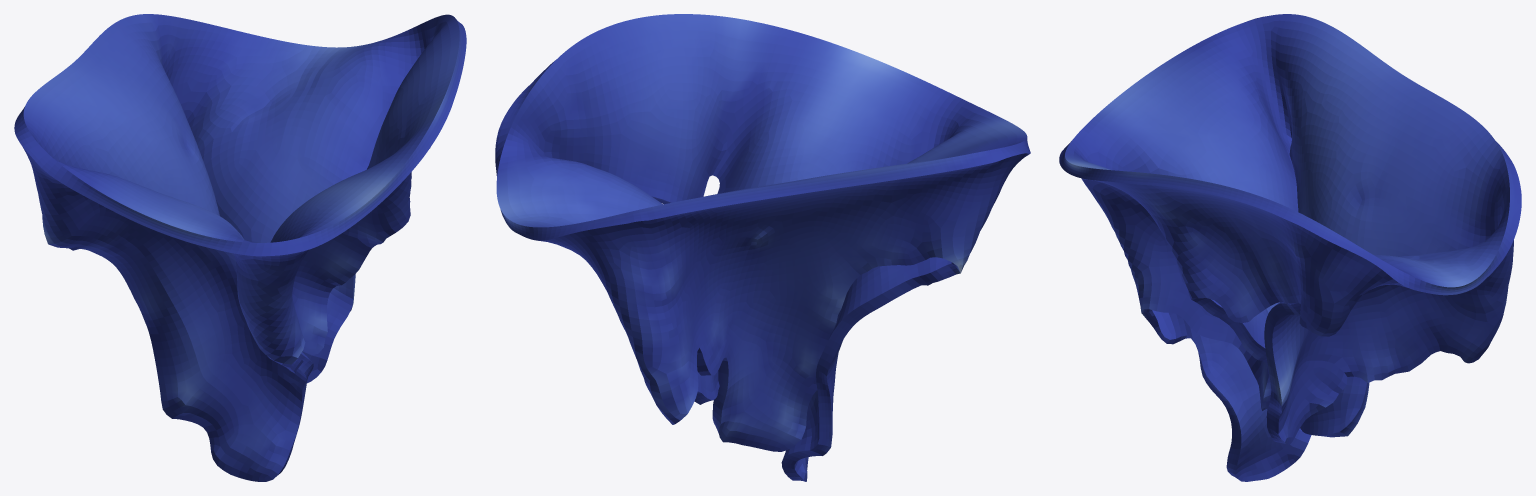
The model's file is OCS14_maxS_3.glb.
3 views of the same model, side by side, from view 1: azimuth 30°, elevation 25°; view 2: azimuth 150°, elevation 25°; view 3: azimuth 270°, elevation 25° (orthographic). The views are drawn at different scales.
Parts seen in each view (by area): view 1: OCS14_maxS_3; view 2: OCS14_maxS_3; view 3: OCS14_maxS_3.
Boxes of the visible parts, bbox=[...] form: OCS14_maxS_3: bbox=[14, 14, 466, 481]; OCS14_maxS_3: bbox=[495, 14, 1030, 481]; OCS14_maxS_3: bbox=[1059, 14, 1521, 481].
Bounding box in the file's own units: 1.44 × 1.2 × 1.32.
